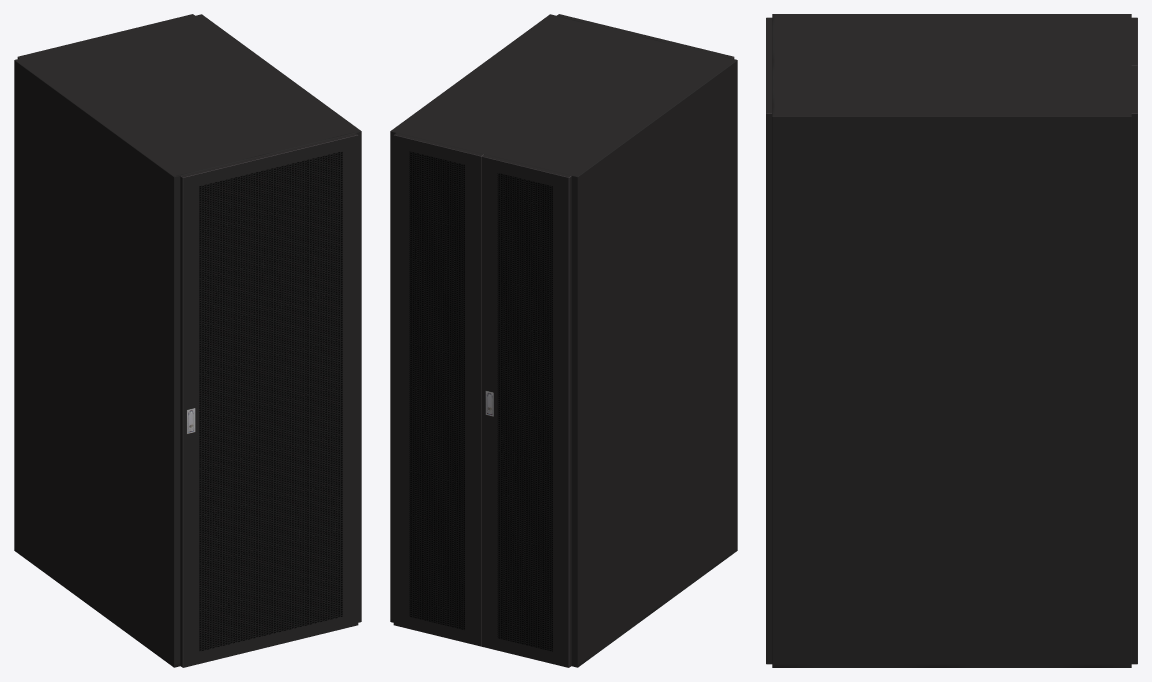
The picture shows the model from 3 angles, left to right: view 1: azimuth 30°, elevation 25°; view 2: azimuth 150°, elevation 25°; view 3: azimuth 270°, elevation 25°; orthographic projection. The views are drawn at different scales.
Visible parts, largest first — view 1: Lo-BODY_01, Lo-qianmen_01; view 2: Lo-BODY_01, Lo-youhoumen_01, Lo-zuohoumen_01, Lo-qianmen_01; view 3: Lo-BODY_01, Lo-qianmen_01, Lo-zuohoumen_01.
Part boxes in pixels (x1=…): Lo-BODY_01: x1=14, y1=14, x2=361, y2=667; Lo-qianmen_01: x1=180, y1=133, x2=358, y2=667; Lo-BODY_01: x1=390, y1=14, x2=737, y2=667; Lo-youhoumen_01: x1=481, y1=154, x2=571, y2=667; Lo-zuohoumen_01: x1=393, y1=133, x2=483, y2=646; Lo-qianmen_01: x1=557, y1=14, x2=734, y2=58; Lo-BODY_01: x1=772, y1=14, x2=1131, y2=667; Lo-qianmen_01: x1=766, y1=17, x2=772, y2=664; Lo-zuohoumen_01: x1=1131, y1=65, x2=1137, y2=664.
Bounding box in the file's own units: 0.801 × 2 × 1.22.
Materials: 2 (2 with a texture image).
